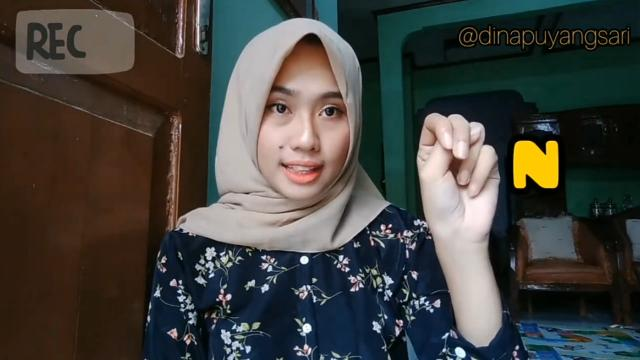N: (418, 113, 500, 231)
